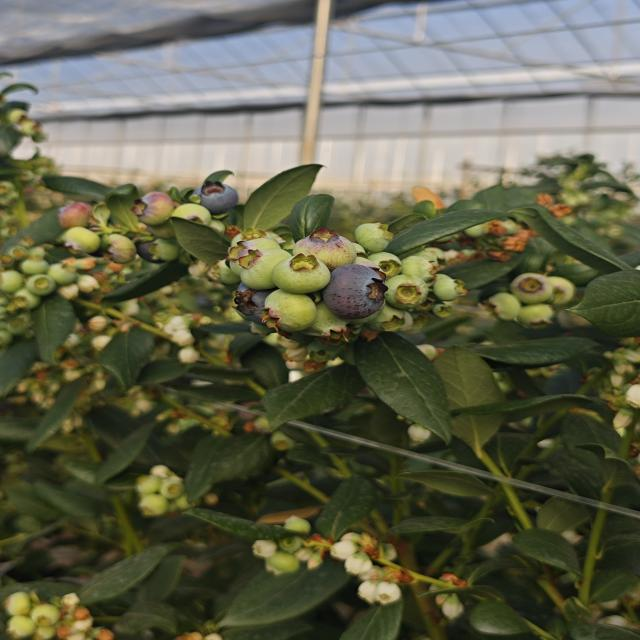ripe: (320, 262, 390, 322), (191, 178, 241, 216), (230, 282, 272, 326), (543, 364, 596, 398)
